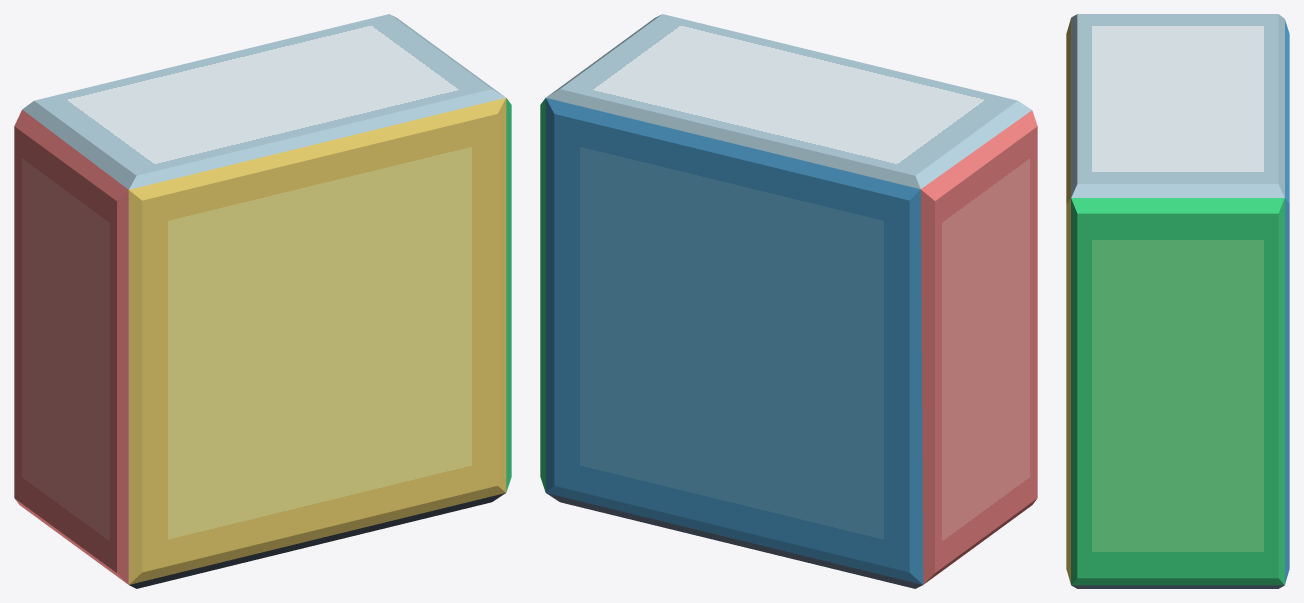
File: halfroundedcube_buildingblock_village.obj
The picture shows the model from 3 angles, left to right: view 1: azimuth 30°, elevation 25°; view 2: azimuth 150°, elevation 25°; view 3: azimuth 270°, elevation 25°; orthographic projection. The views are drawn at different scales.
Parts seen in each view (by area): view 1: cube; view 2: cube; view 3: cube.
Boxes of the visible parts, box(x1,y1,x2,y2) form: cube: box(14, 14, 511, 588); cube: box(540, 14, 1037, 588); cube: box(1066, 14, 1289, 588).
Size of the model in its own units: 1 by 1 by 0.5.
